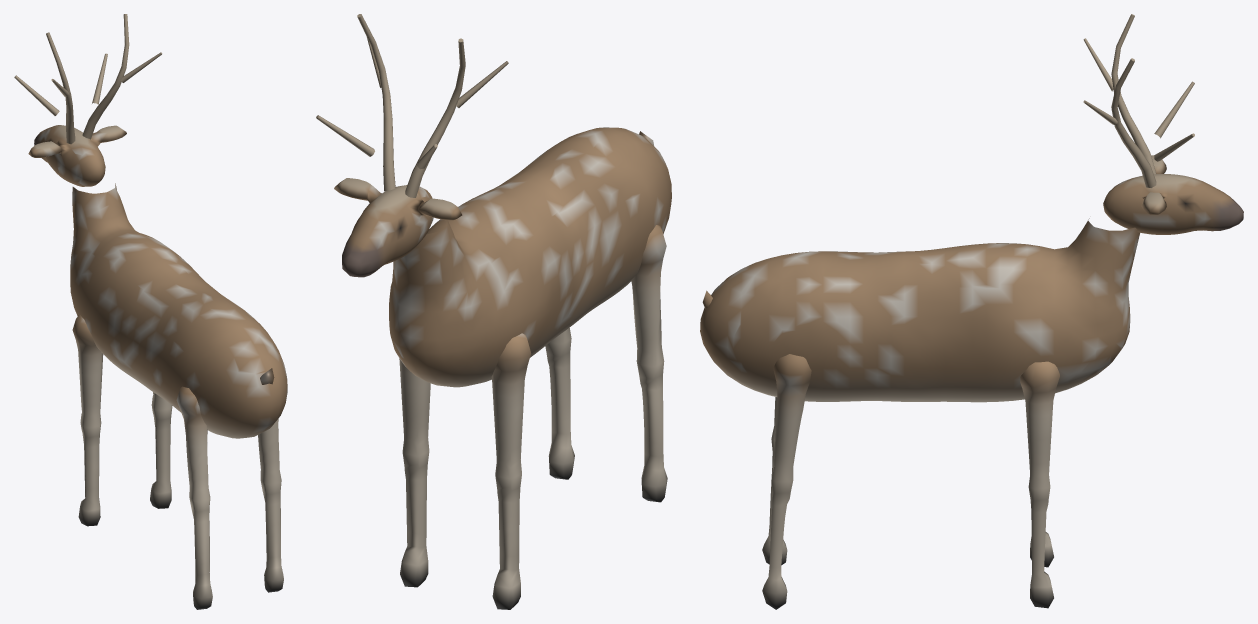
File: animal_deer.glb
3 renders of one model, left to right at view 1: azimuth 30°, elevation 25°; view 2: azimuth 150°, elevation 25°; view 3: azimuth 270°, elevation 25°, orthographic. The views are drawn at different scales.
Parts seen in each view (by area): view 1: Body, Head, Leg_BL, Leg_FL, Leg_BR, Leg_FR; view 2: Body, Head, Leg_FL, Leg_BL, Leg_FR, Leg_BR; view 3: Body, Head, Leg_BR, Leg_FR.
Part boxes in pixels (left/top/right/bottom): Body: left=70, top=183, right=287, bottom=438; Head: left=14, top=14, right=162, bottom=186; Leg_BL: left=176, top=386, right=212, bottom=609; Leg_FL: left=72, top=314, right=103, bottom=526; Leg_BR: left=258, top=418, right=283, bottom=592; Leg_FR: left=150, top=392, right=172, bottom=508; Body: left=389, top=127, right=671, bottom=387; Head: left=316, top=14, right=508, bottom=277; Leg_FL: left=491, top=333, right=531, bottom=609; Leg_BL: left=631, top=225, right=667, bottom=502; Leg_FR: left=399, top=358, right=430, bottom=587; Leg_BR: left=545, top=328, right=574, bottom=479; Body: left=700, top=218, right=1139, bottom=402; Head: left=1083, top=14, right=1243, bottom=234; Leg_BR: left=762, top=354, right=811, bottom=609; Leg_FR: left=1020, top=361, right=1059, bottom=608.
Size of the model in its own units: 0.4973 by 2.01 by 1.8.
